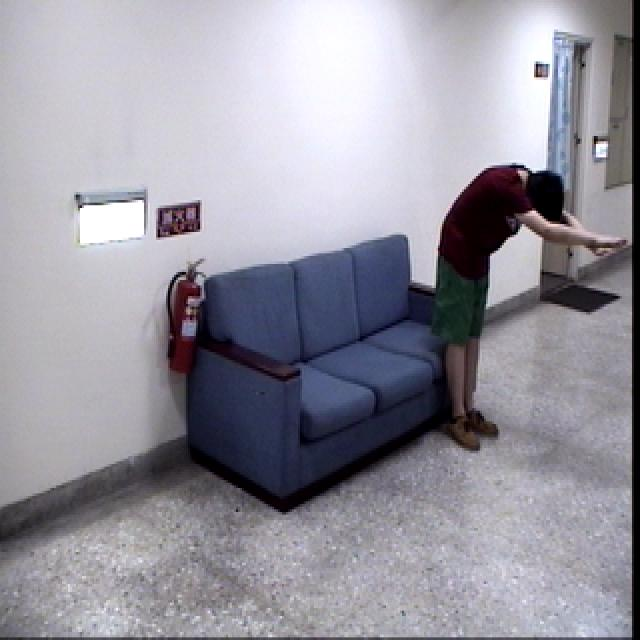bend: (426, 148, 634, 457)
